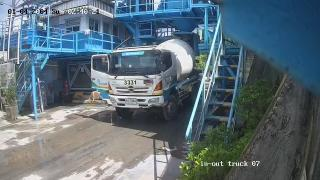cement_mixer_truck: (91, 38, 203, 121)
